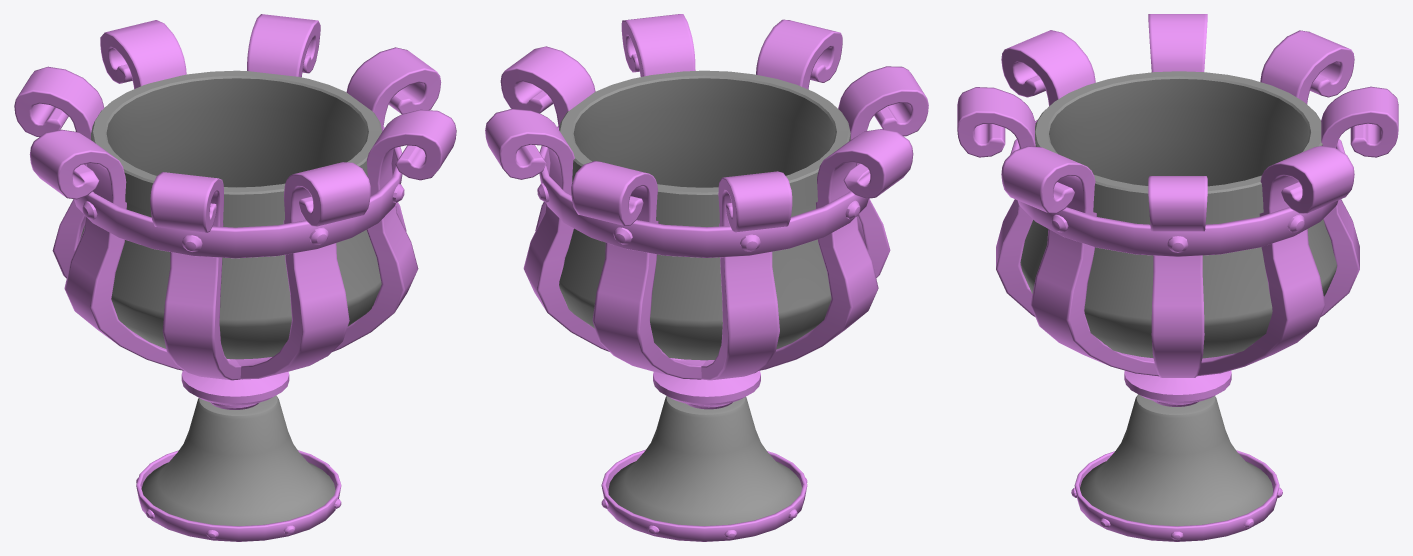
The model's file is SM_CastleLight_A_002.FBX.
3 renders of one model, left to right at view 1: azimuth 30°, elevation 25°; view 2: azimuth 150°, elevation 25°; view 3: azimuth 270°, elevation 25°, orthographic.
Parts seen in each view (by area): view 1: SM_CastleLight_A_002; view 2: SM_CastleLight_A_002; view 3: SM_CastleLight_A_002.
Part boxes in pixels (<box>): SM_CastleLight_A_002: <box>14,14,456,541</box>; SM_CastleLight_A_002: <box>485,14,928,541</box>; SM_CastleLight_A_002: <box>957,14,1398,541</box>.
Bounding box in the file's own units: 66.51 × 66.42 × 66.51.
